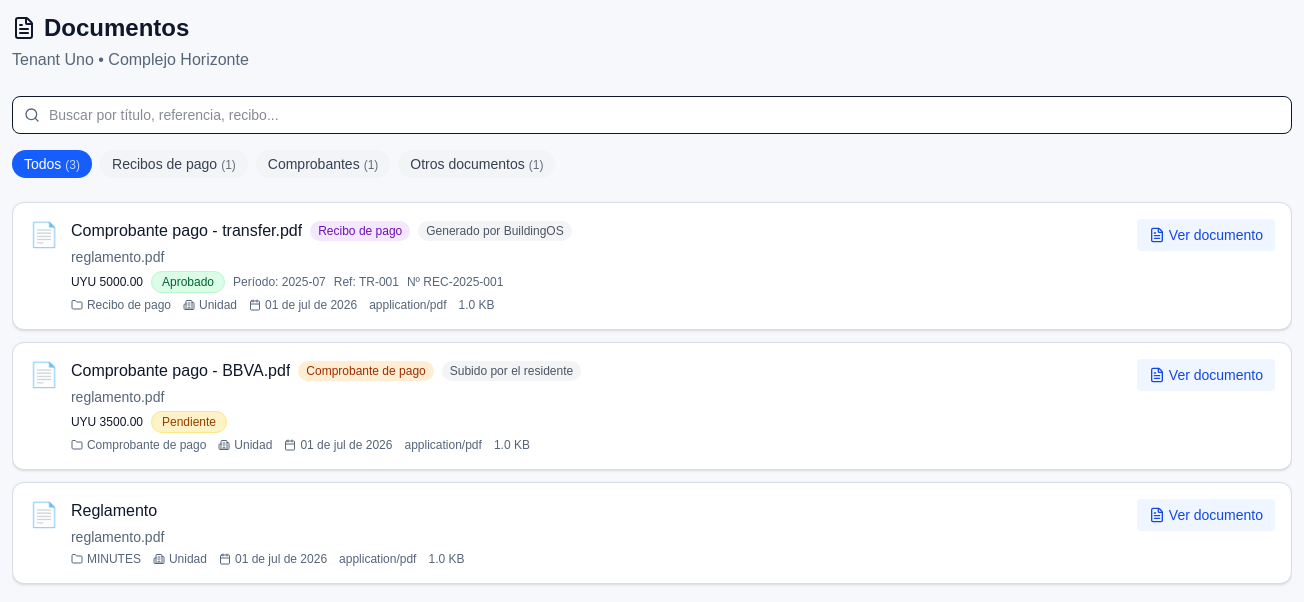
Test: ResidentDocumentsPage › Type filter › filters to PAYMENT_RECEIPT only
This screenshot has width=1304, height=602.
Click the button "Recibos de pago(1)". click: (174, 164)
box: top-left (100, 150), bottom-right (248, 178)
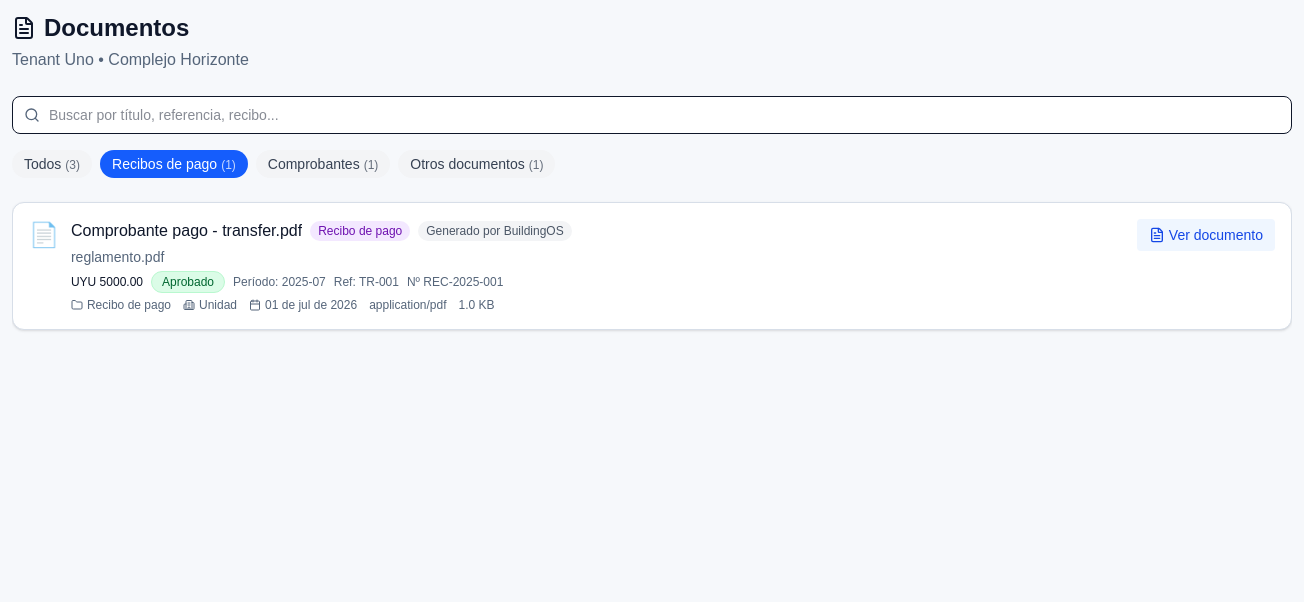
Expected: the heading "Comprobante pago - transfer.pdf" is shown, top-left (71, 219), bottom-right (302, 243)
Expected: the heading "Comprobante pago - BBVA.pdf" is gone
